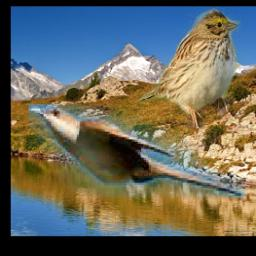Cuckoo: (27, 104, 244, 198)
Sparrow: (137, 7, 241, 129)
